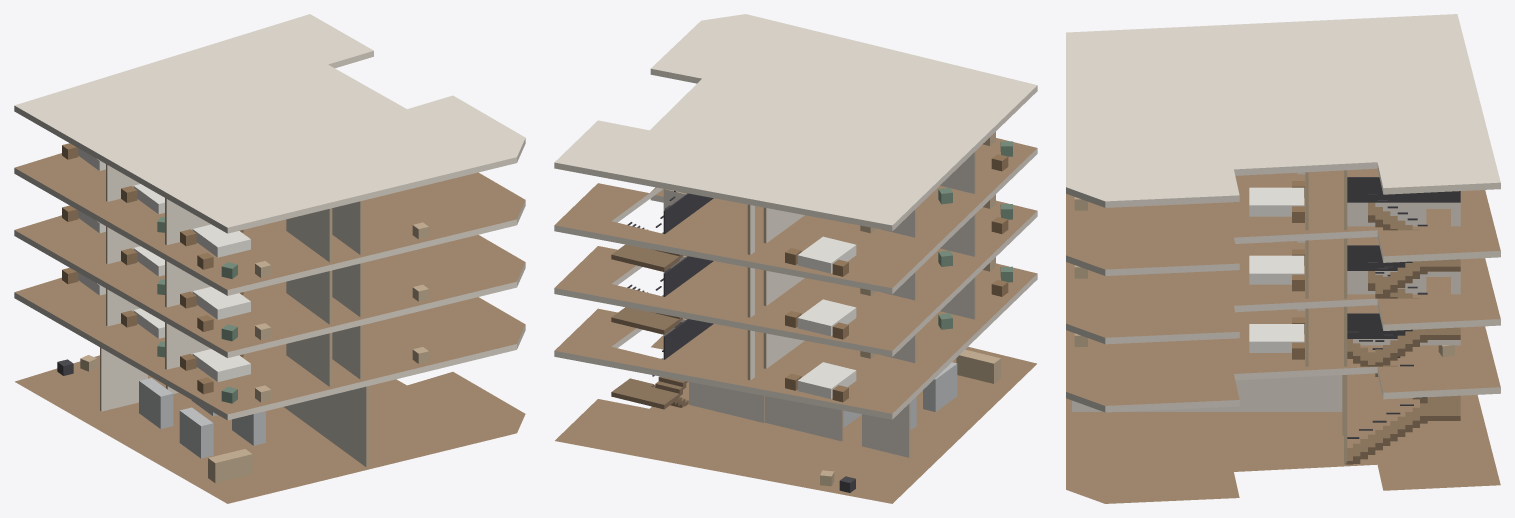
File: interior.glb
3 renders of one model, left to right at view 1: azimuth 30°, elevation 25°; view 2: azimuth 150°, elevation 25°; view 3: azimuth 270°, elevation 25°, orthographic. The views are drawn at different scales.
Parts seen in each view (by area): view 1: slabs, partitions, coarse-s0, coarse-s2, coarse-s1, coarse-s3; view 2: slabs, partitions, stair, coarse-s0, coarse-s3, coarse-s2, coarse-s1; view 3: slabs, stair, partitions, coarse-s2, coarse-s3, coarse-s1.
Part boxes in pixels (bbox=[...]): slabs: bbox=[14, 14, 525, 503]; partitions: bbox=[100, 164, 368, 467]; coarse-s0: bbox=[57, 355, 265, 483]; coarse-s2: bbox=[62, 205, 428, 341]; coarse-s1: bbox=[62, 267, 428, 403]; coarse-s3: bbox=[62, 143, 428, 278]; slabs: bbox=[554, 14, 1037, 503]; partitions: bbox=[663, 151, 975, 457]; stair: bbox=[611, 191, 713, 409]; coarse-s0: bbox=[820, 349, 1000, 492]; coarse-s3: bbox=[785, 132, 1012, 276]; coarse-s2: bbox=[785, 194, 1012, 339]; coarse-s1: bbox=[785, 257, 1012, 402]; slabs: bbox=[1066, 14, 1500, 503]; stair: bbox=[1345, 177, 1460, 464]; partitions: bbox=[1072, 170, 1460, 464]; coarse-s2: bbox=[1074, 249, 1304, 291]; coarse-s3: bbox=[1074, 181, 1304, 222]; coarse-s1: bbox=[1074, 317, 1304, 359].
Size of the model in its own units: 16.04 by 12.1 by 15.73.
